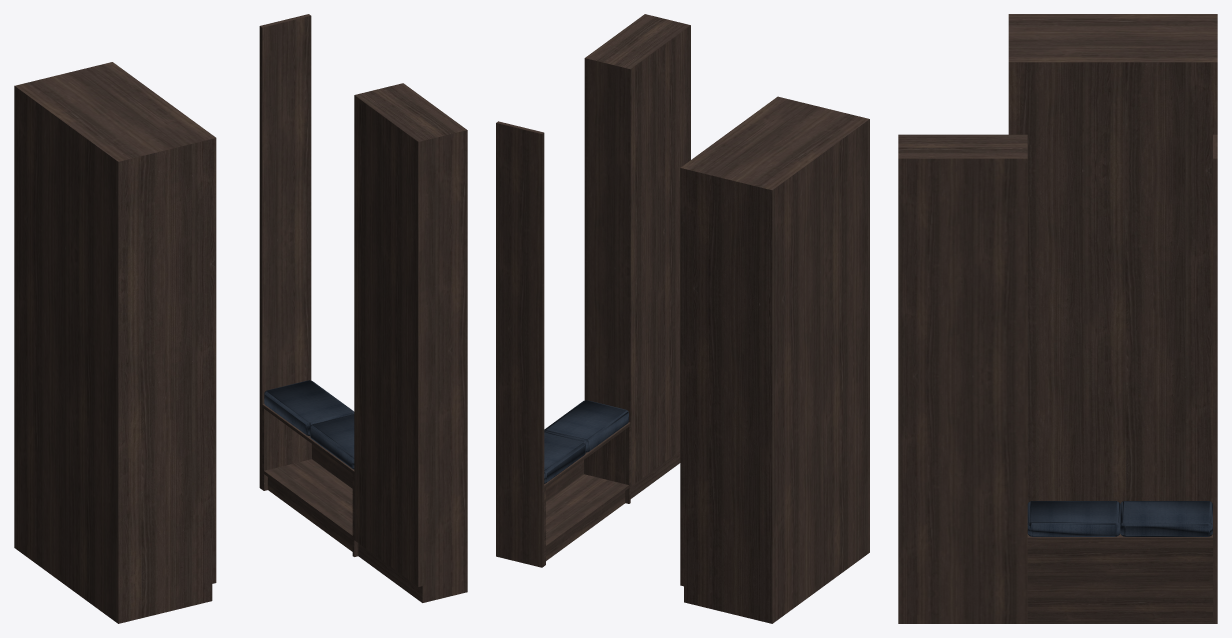
The model's file is entrance.glb.
3 renders of one model, left to right at view 1: azimuth 30°, elevation 25°; view 2: azimuth 150°, elevation 25°; view 3: azimuth 270°, elevation 25°, orthographic. The views are drawn at different scales.
Visible parts, largest first — view 1: Body3, Body5, Body4, Body6, Body10, Body9; view 2: Body3, Body5, Body4, Body6, Body9, Body10; view 3: Body3, Body5, Body6, Body9, Body10, Body4.
Boxes of the visible parts, box(x1,y1,x2,y2) form: Body3: box(14, 62, 216, 623); Body5: box(354, 83, 467, 602); Body4: box(259, 14, 311, 489); Body6: box(262, 403, 358, 556); Body10: box(264, 380, 354, 435); Body9: box(310, 414, 354, 469); Body3: box(680, 96, 869, 623); Body5: box(584, 14, 690, 498); Body4: box(496, 121, 544, 567); Body6: box(544, 422, 630, 565); Body9: box(544, 400, 628, 452); Body10: box(544, 432, 585, 483); Body3: box(1008, 14, 1217, 503); Body5: box(898, 134, 1027, 623); Body6: box(1027, 534, 1212, 623); Body9: box(1027, 501, 1120, 536); Body10: box(1120, 501, 1212, 536); Body4: box(1213, 134, 1217, 623).
Bounding box in the file's own units: 1.8 × 2.7 × 1.68.
6 materials, 6 textured.
